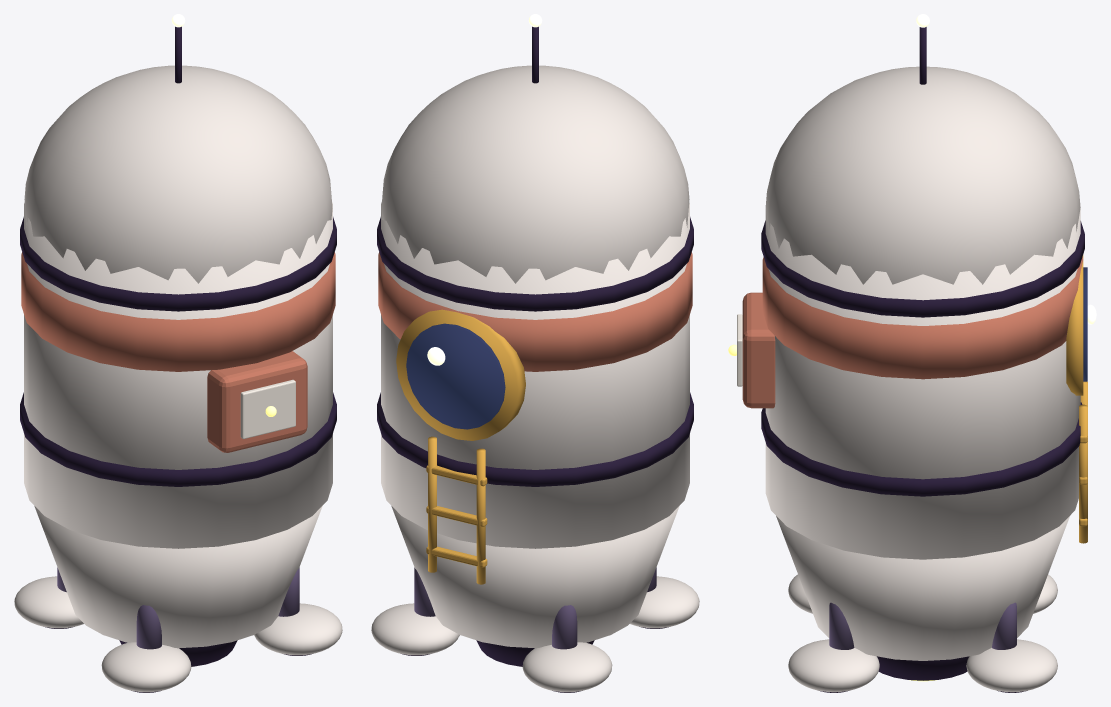
File: mail-ship.glb
The picture shows the model from 3 angles, left to right: view 1: azimuth 30°, elevation 25°; view 2: azimuth 150°, elevation 25°; view 3: azimuth 270°, elevation 25°; orthographic projection. The views are drawn at different scales.
Parts seen in each view (by area): view 1: Mailwing; view 2: Mailwing, WindowGlass; view 3: Mailwing, WindowGlass.
Boxes of the visible parts, box(x1,y1,x2,y2) form: Mailwing: box(14, 14, 342, 692); Mailwing: box(371, 14, 699, 692); WindowGlass: box(406, 323, 505, 429); Mailwing: box(728, 14, 1096, 692); WindowGlass: box(1083, 267, 1087, 381).
Size of the model in its own units: 1.13 by 2.51 by 1.29.
